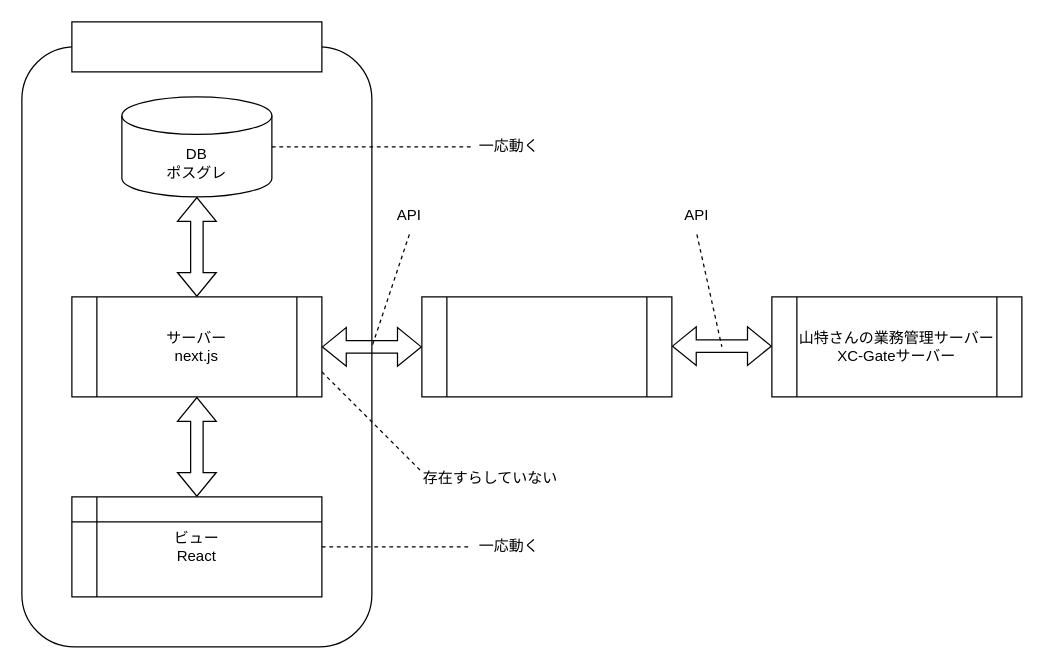
Some shapes in this 1044 by 669 pixel diagram are drawn without their labels. The shapes that lost their labels are listed below. From the top down, each one's centre as x and y in pixels, then its label:
At point (196, 46): "AIPipe管理コンソール".
At point (546, 346): "AIPipeCounterAppServer".
